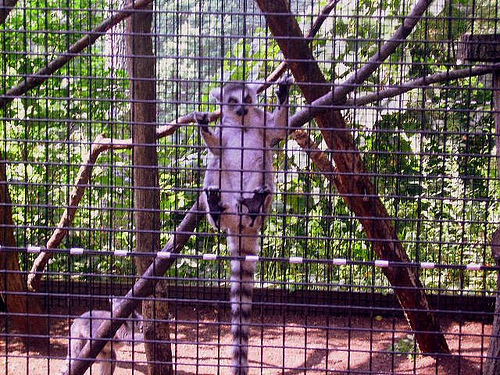cat: (192, 72, 296, 374), (61, 294, 146, 374)
